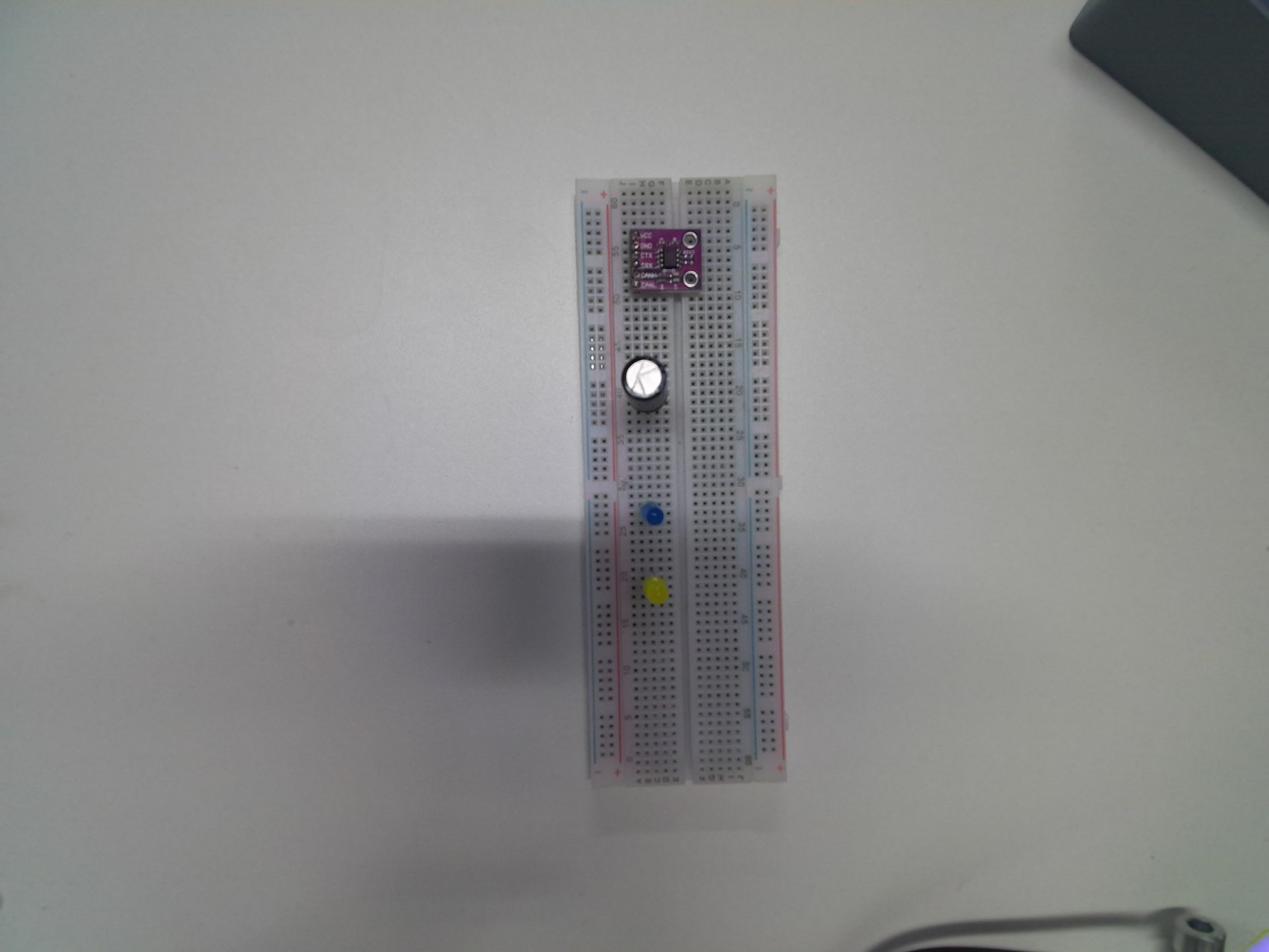base: (570, 174, 787, 798)
blue-led: (635, 501, 666, 531)
capacitor: (621, 356, 668, 412)
purple-board: (627, 226, 703, 300)
yellow-led: (635, 572, 669, 610)
